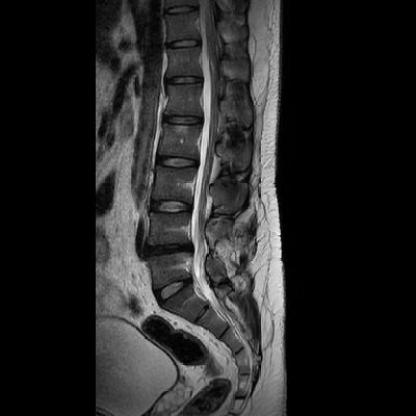Disc Bulgerotation: (143, 241, 191, 263)
